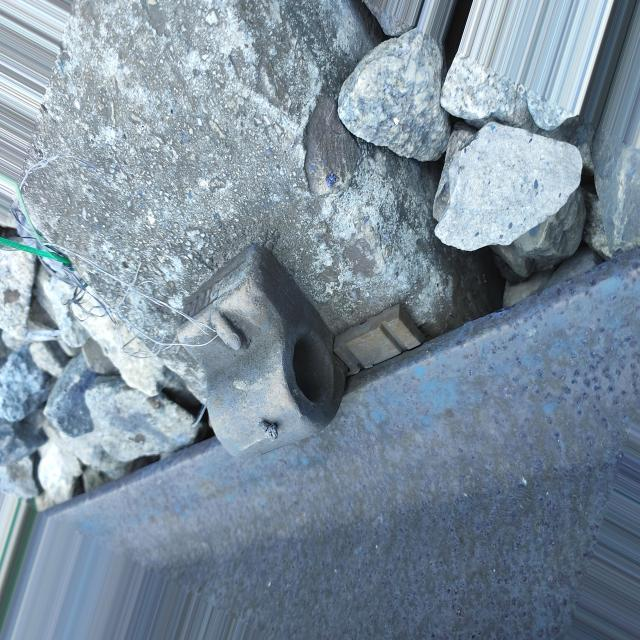Missing Fastener: (113, 210, 412, 513)
